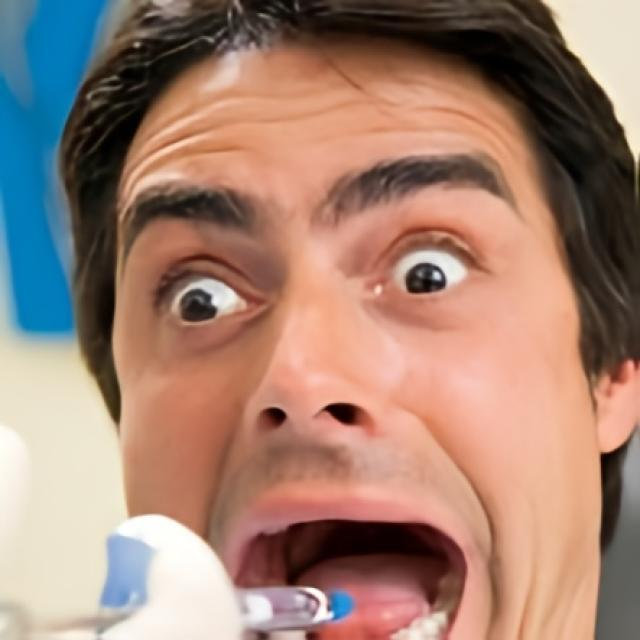fear: (109, 21, 599, 640)
